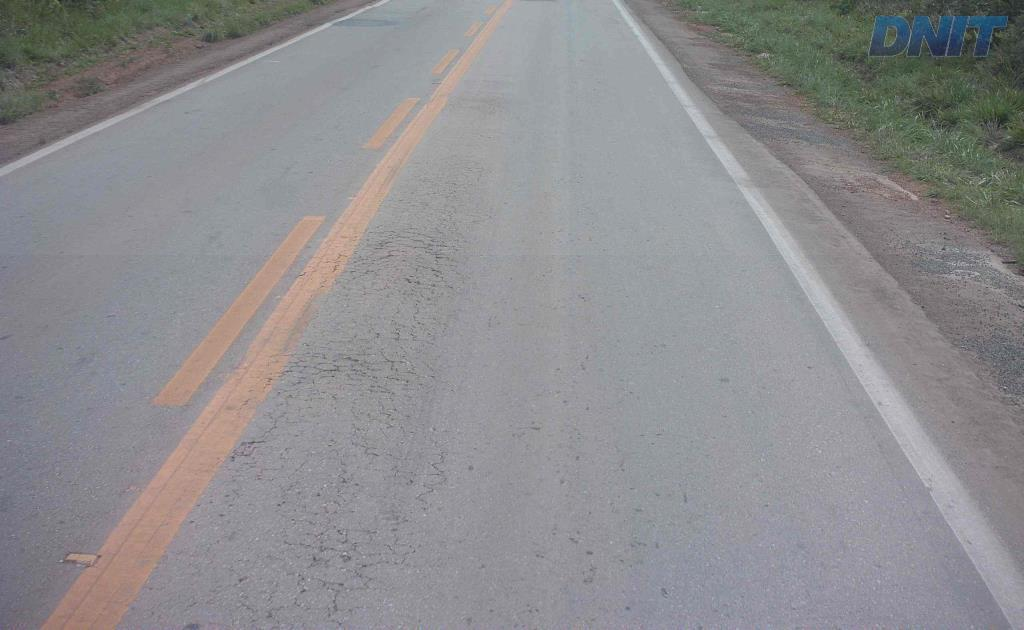crack: (283, 516, 360, 563), (407, 233, 453, 282), (311, 575, 353, 618), (337, 352, 381, 377)
